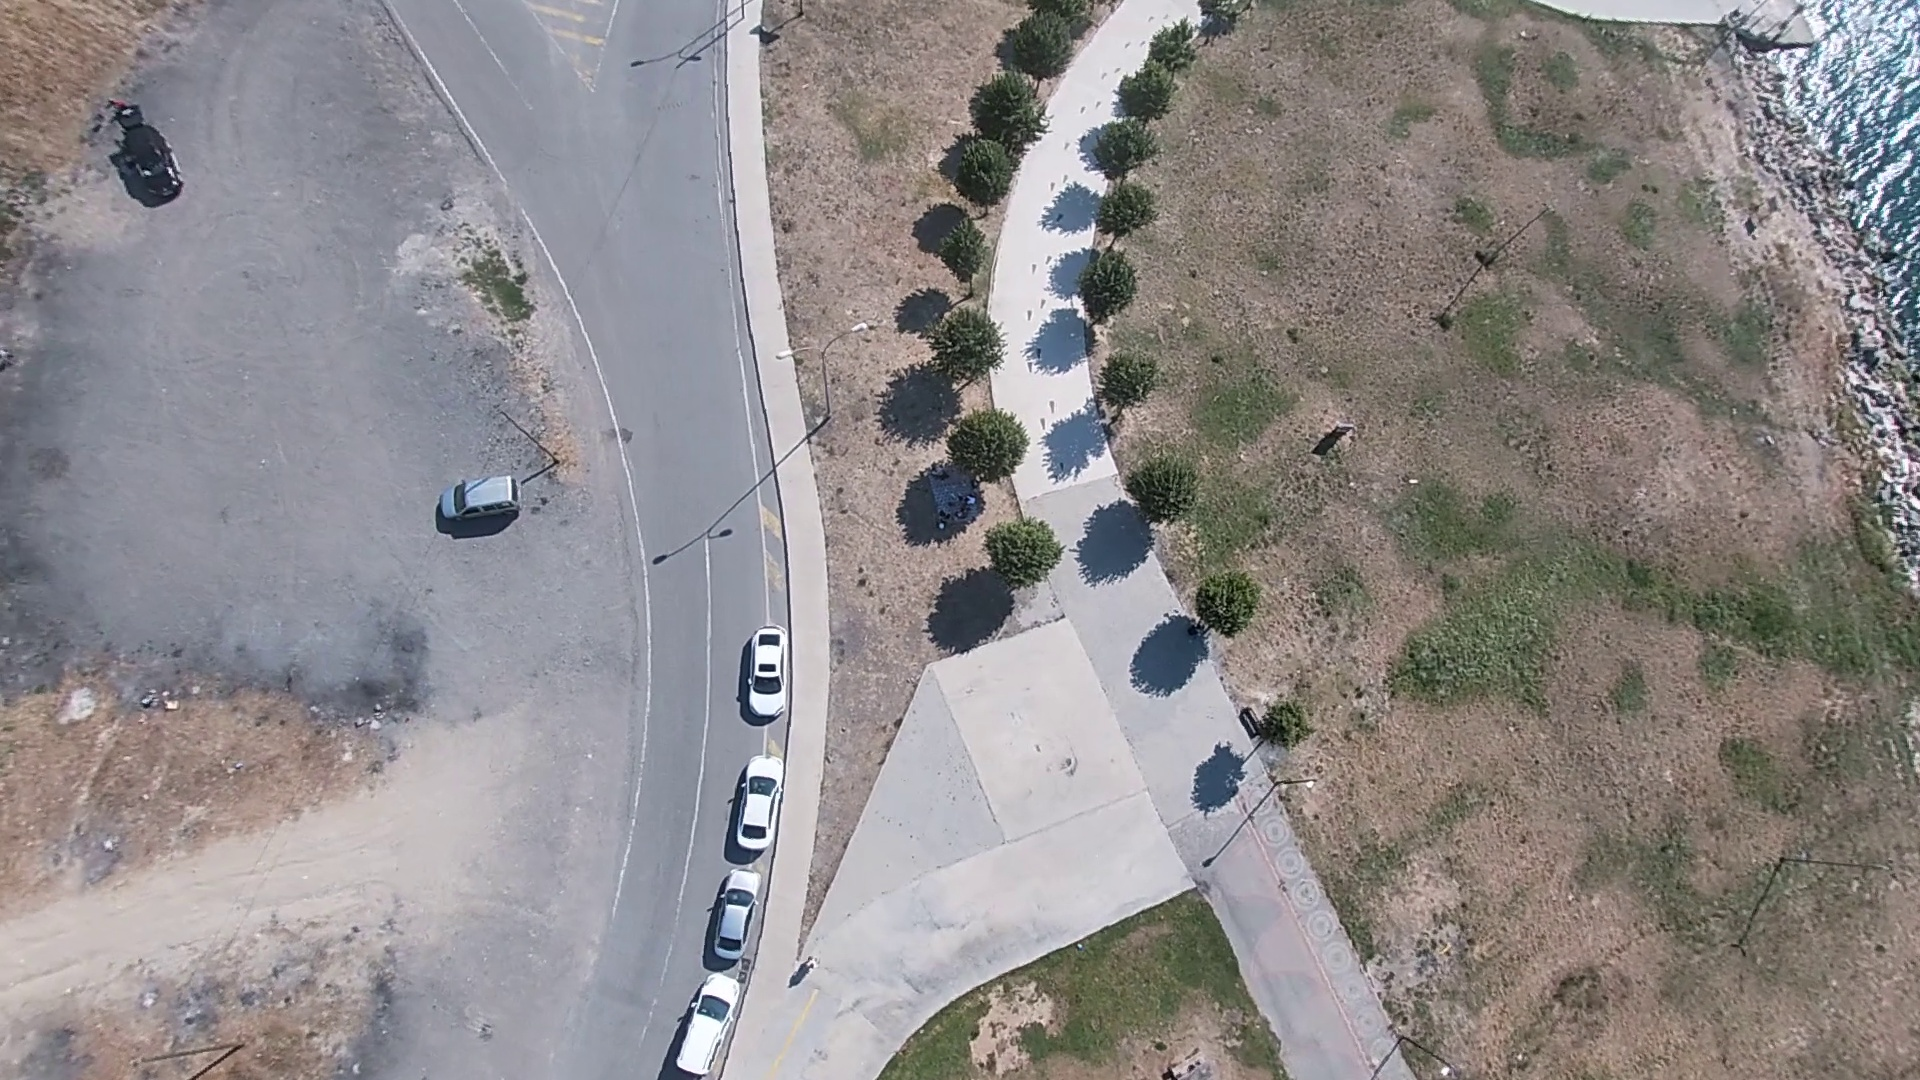araba: (661, 971, 756, 1080), (109, 88, 186, 208), (723, 746, 795, 851), (702, 865, 774, 961), (431, 465, 530, 533), (733, 620, 783, 727)
